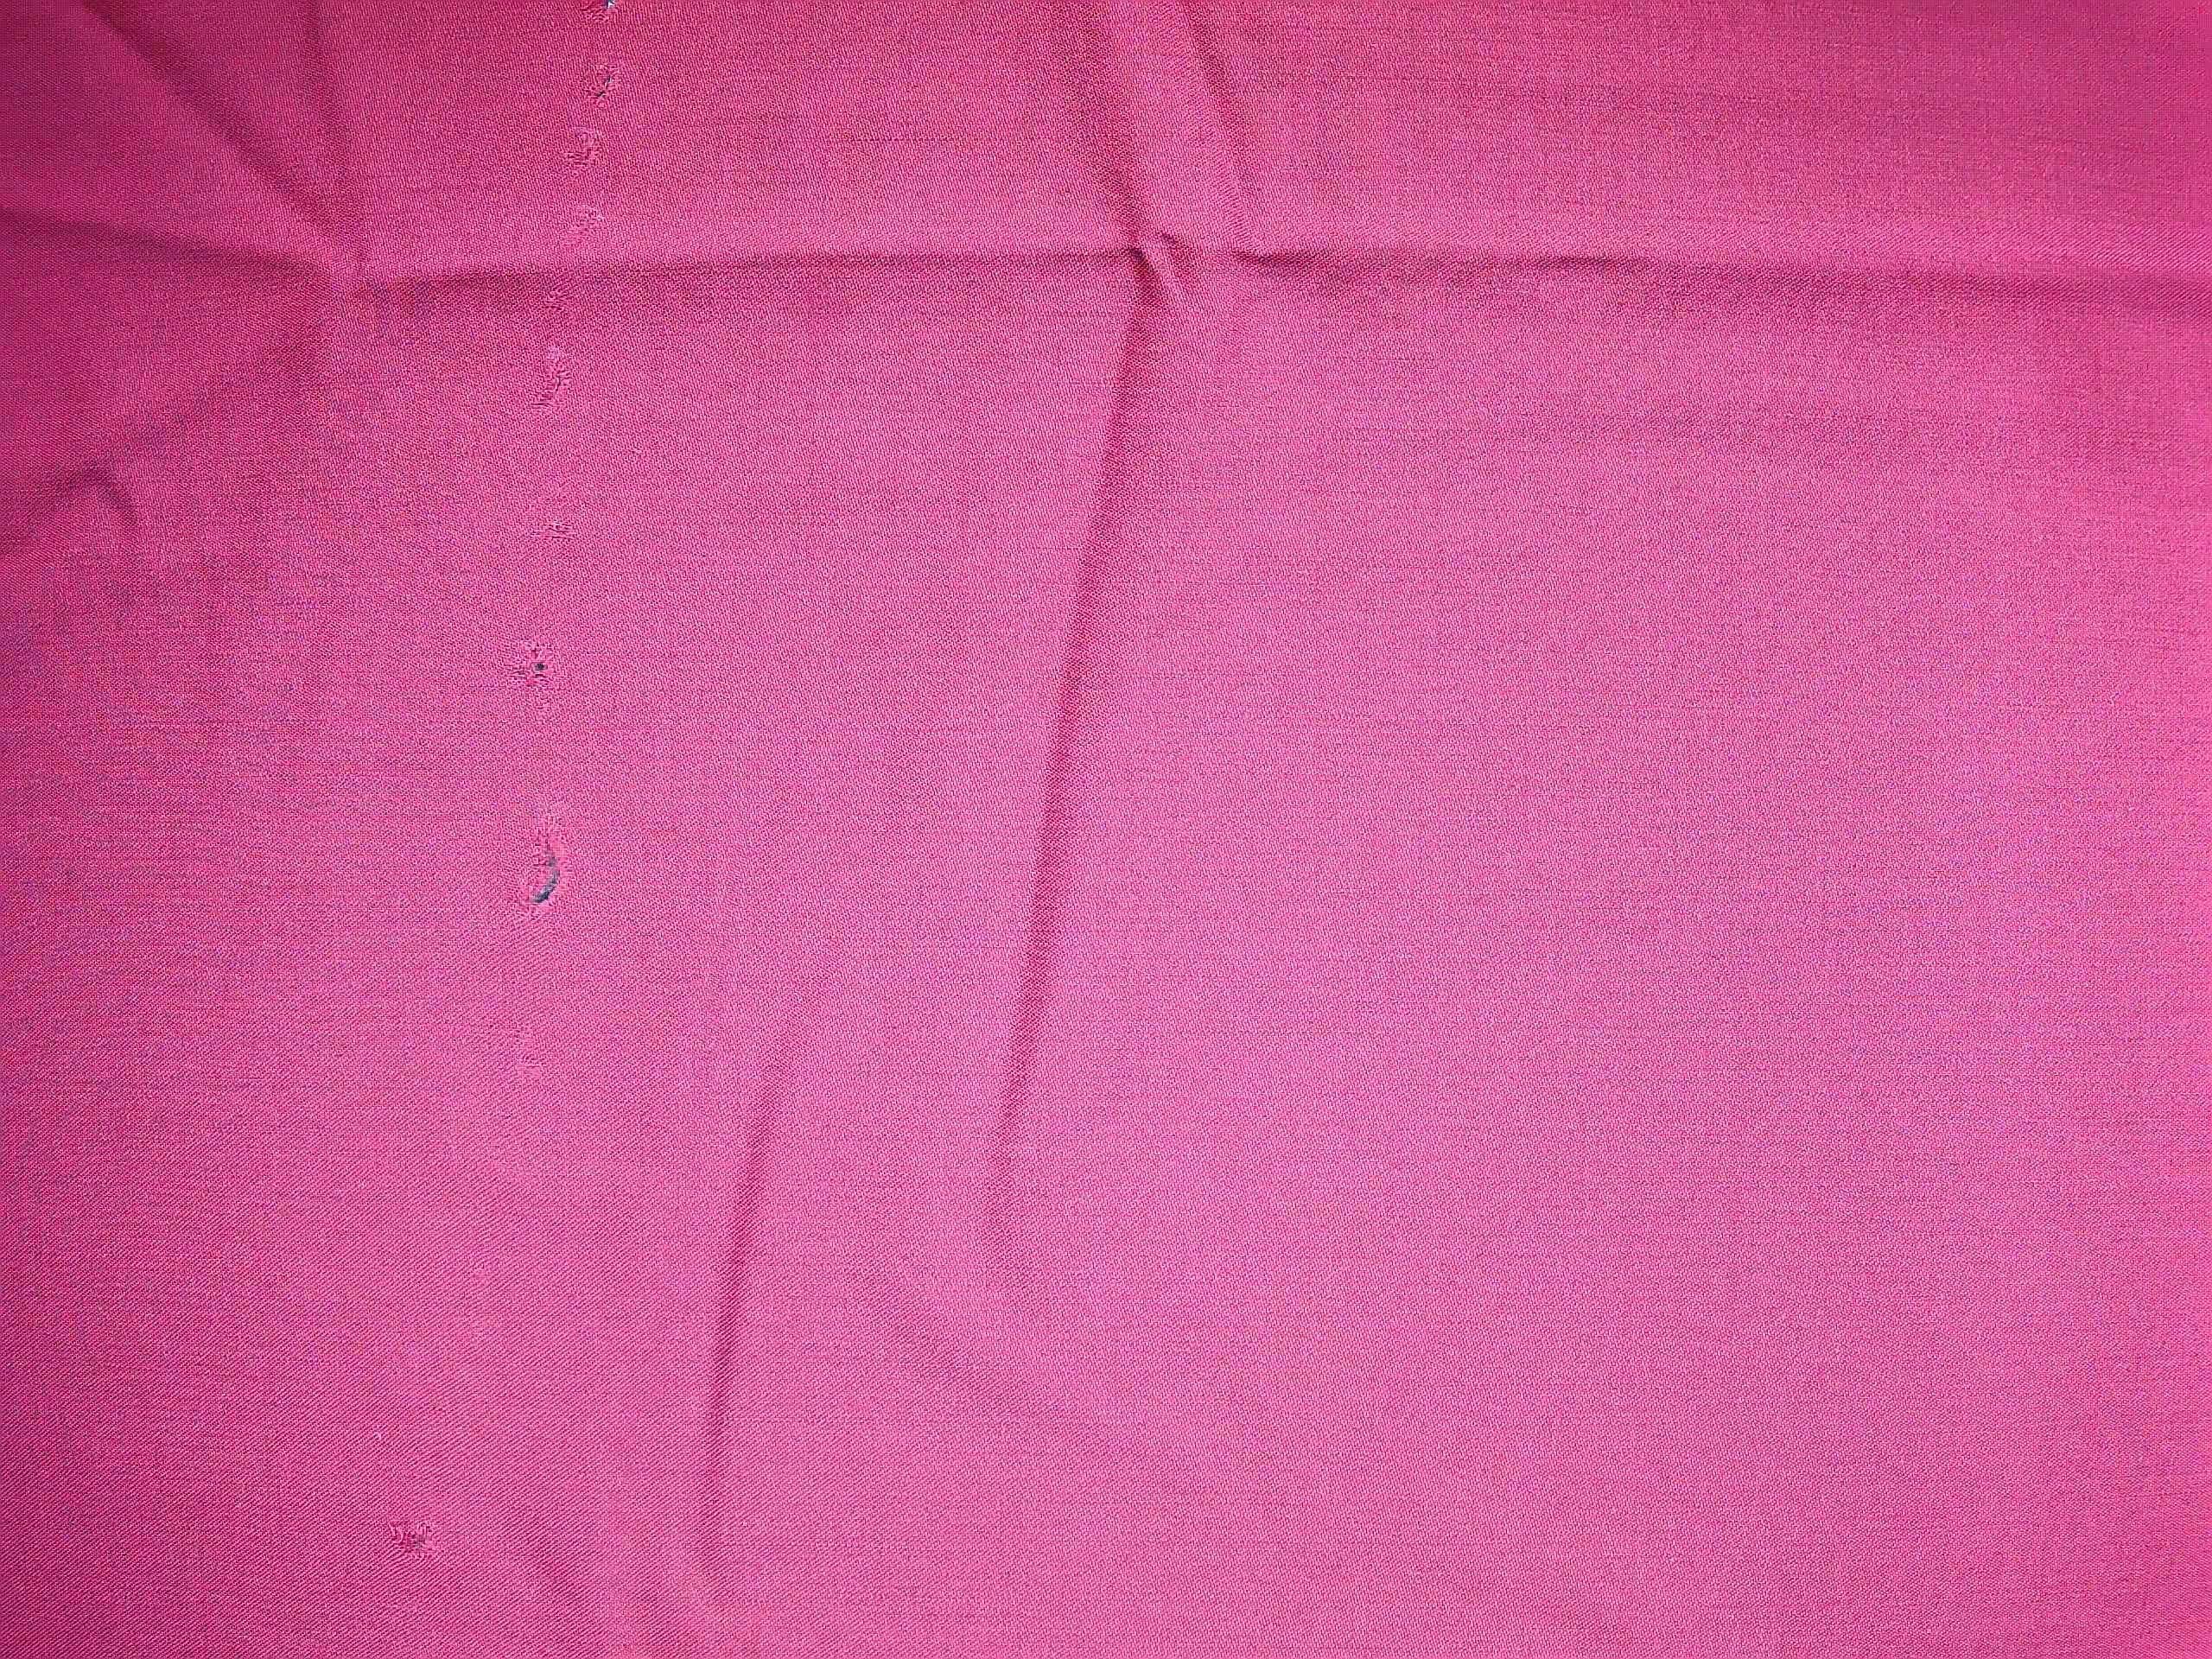rubbing-hole: (528, 5, 632, 432), (495, 798, 592, 936), (369, 1490, 462, 1582), (489, 622, 575, 714)
